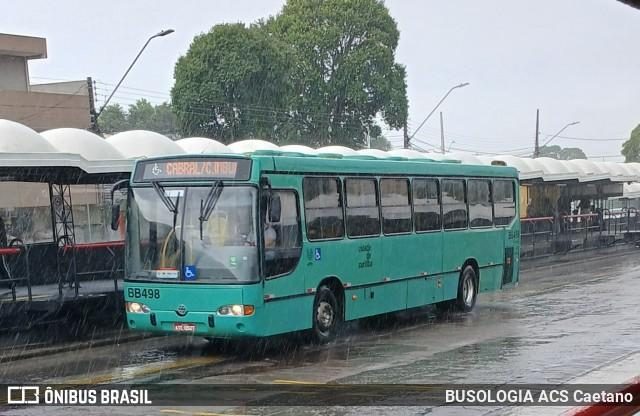CABRAL C. IMBUIA: (163, 160, 239, 179)
